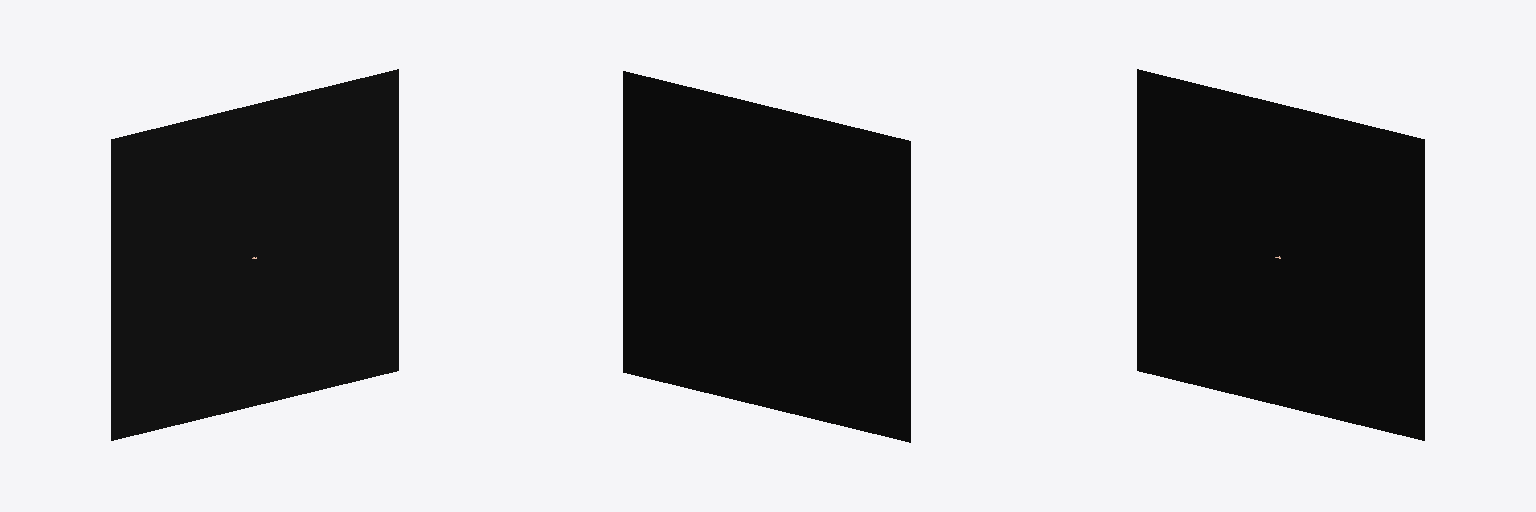
File: imac.obj
3 views of the same model, side by side, from view 1: azimuth 30°, elevation 25°; view 2: azimuth 150°, elevation 25°; view 3: azimuth 330°, elevation 25° (orthographic).
Parts seen in each view (by area): view 1: obj4; view 2: obj4; view 3: obj4.
Boxes of the visible parts, x1,y1,x2,y2 form: obj4: [111, 69, 398, 440]; obj4: [623, 71, 910, 442]; obj4: [1137, 69, 1424, 440].
Bounding box in the file's own units: 664 × 664 × 8.88.